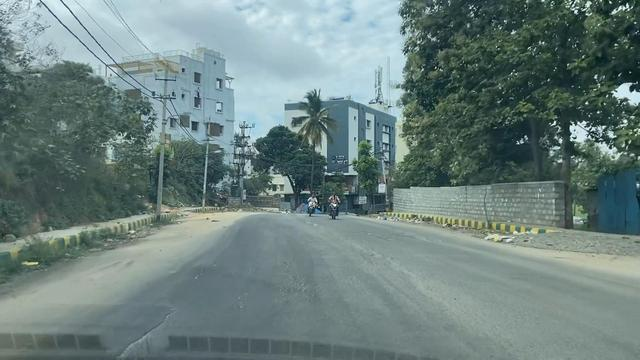RoadDamages: (90, 297, 204, 359), (348, 227, 438, 257)
